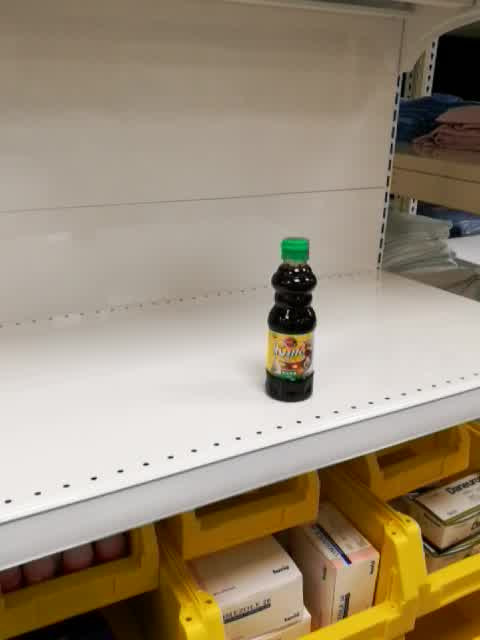cookingoil: (263, 234, 319, 405)
